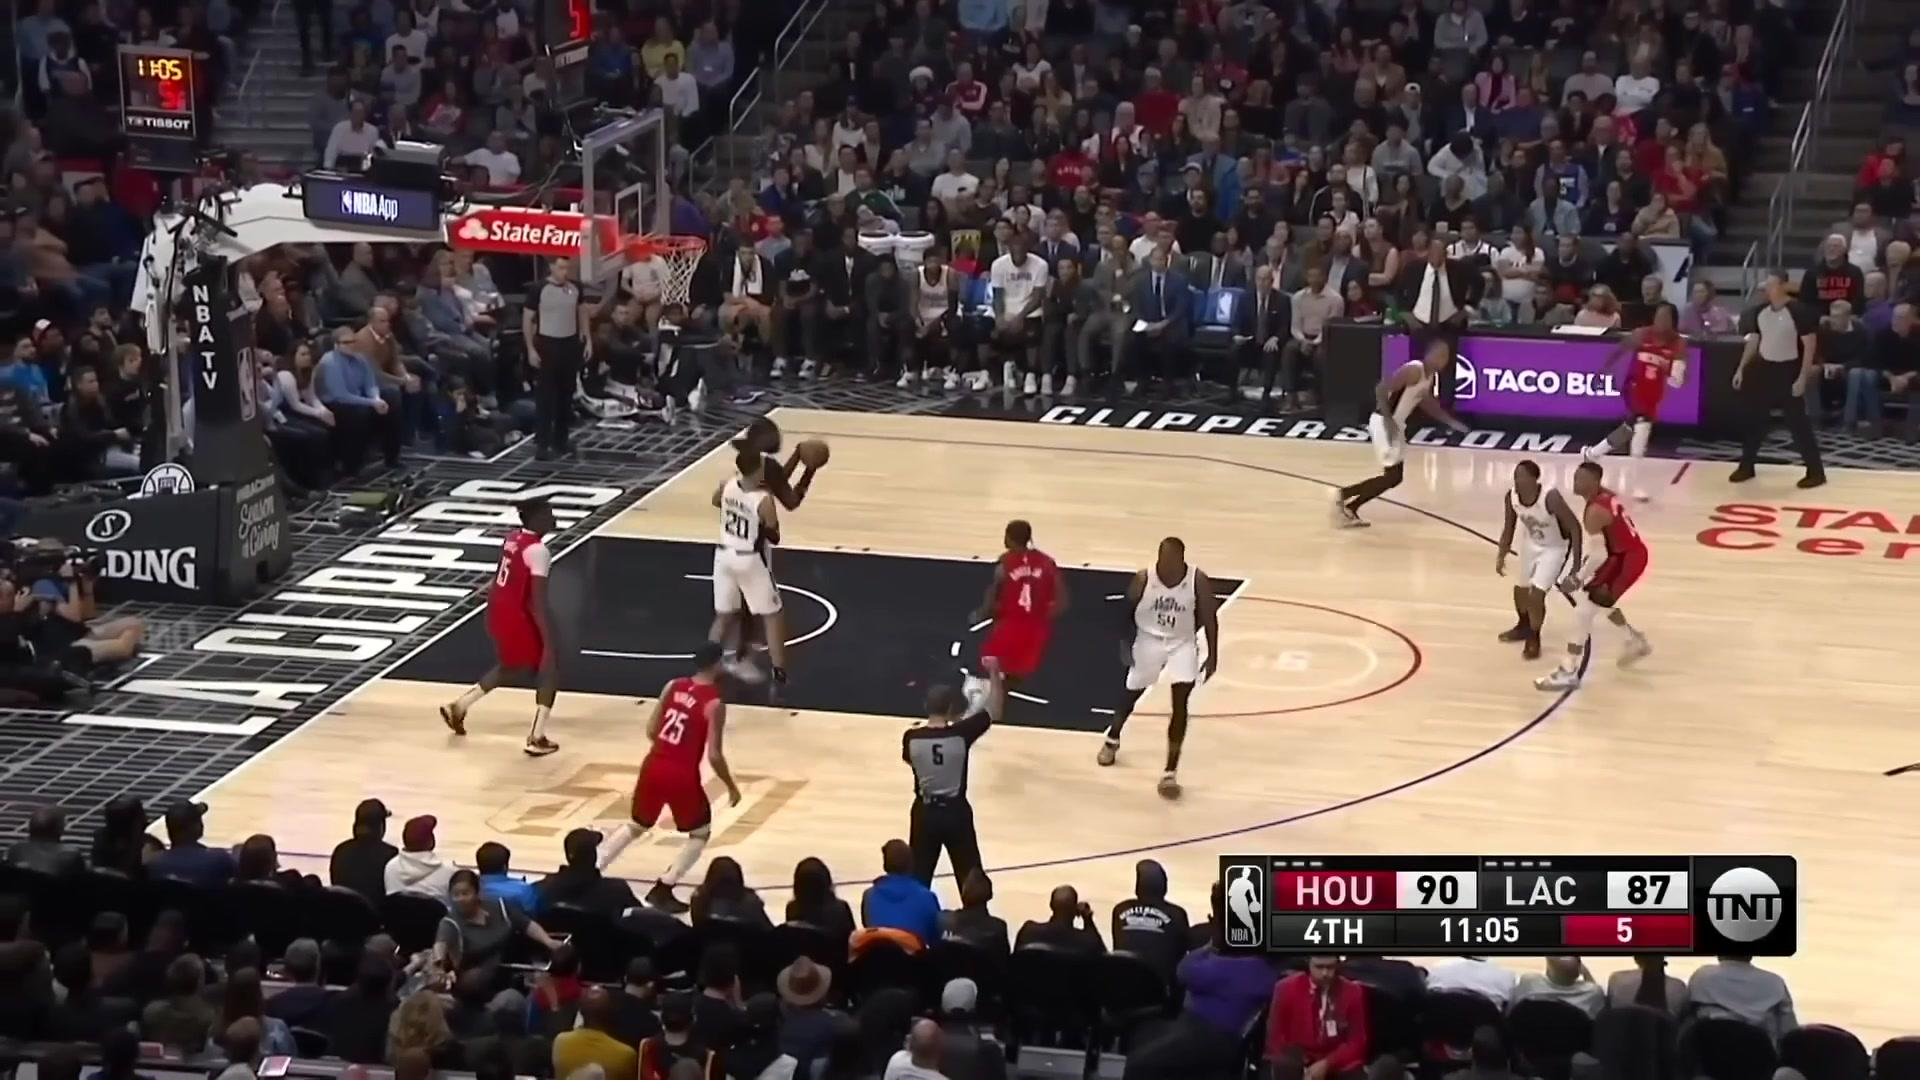foul: (678, 401, 831, 679)
no_foul: (1444, 429, 1693, 692)
